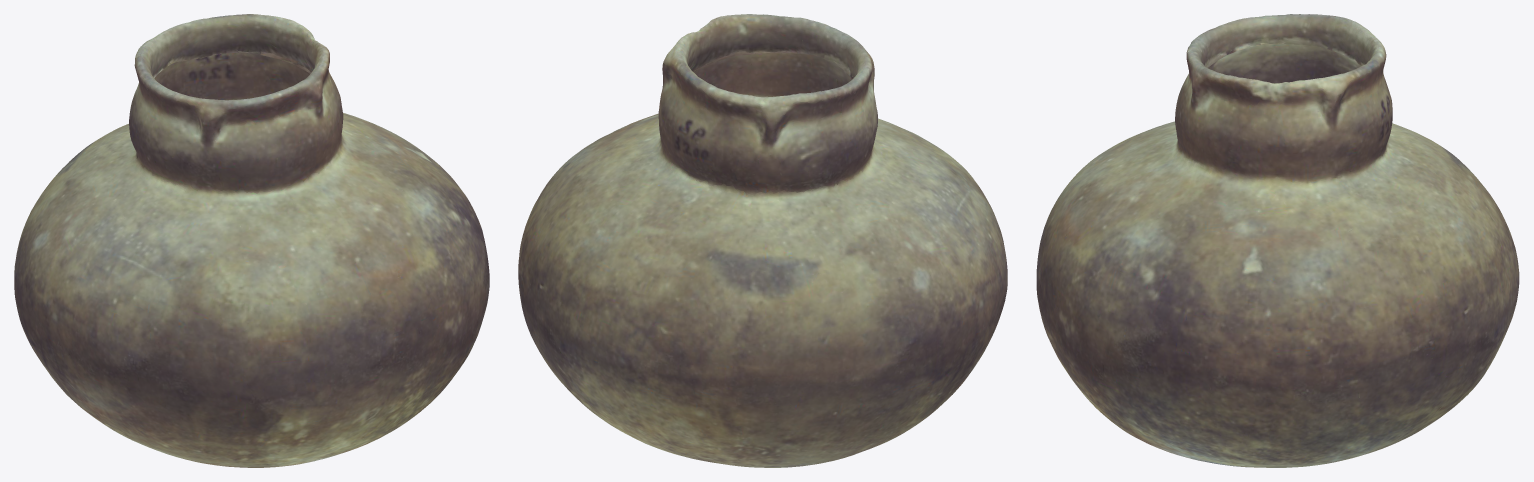
Rendered from Ark_HM_498_HI.glb.
The picture shows the model from 3 angles, left to right: view 1: azimuth 30°, elevation 25°; view 2: azimuth 150°, elevation 25°; view 3: azimuth 270°, elevation 25°; orthographic projection. The views are drawn at different scales.
Size of the model in its own units: 0.4996 by 0.4431 by 0.4983.
1 material, 1 textured.
